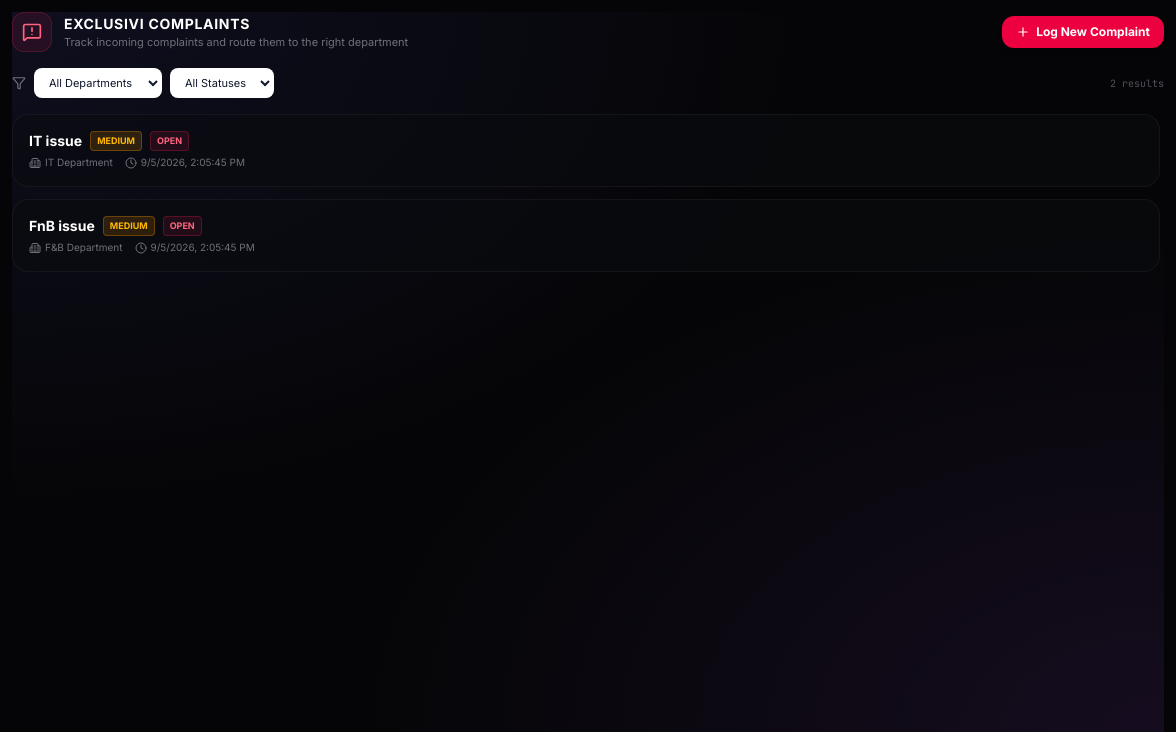
Scenario: Complaints — visibility › filters by department and reflects the result count
This screenshot has width=1176, height=732.
Check: the text "2 results" is shown, box [1110,76,1164,90]
Select "IT Department" in the 1st dropdown: (98, 83) [34,68,162,98]
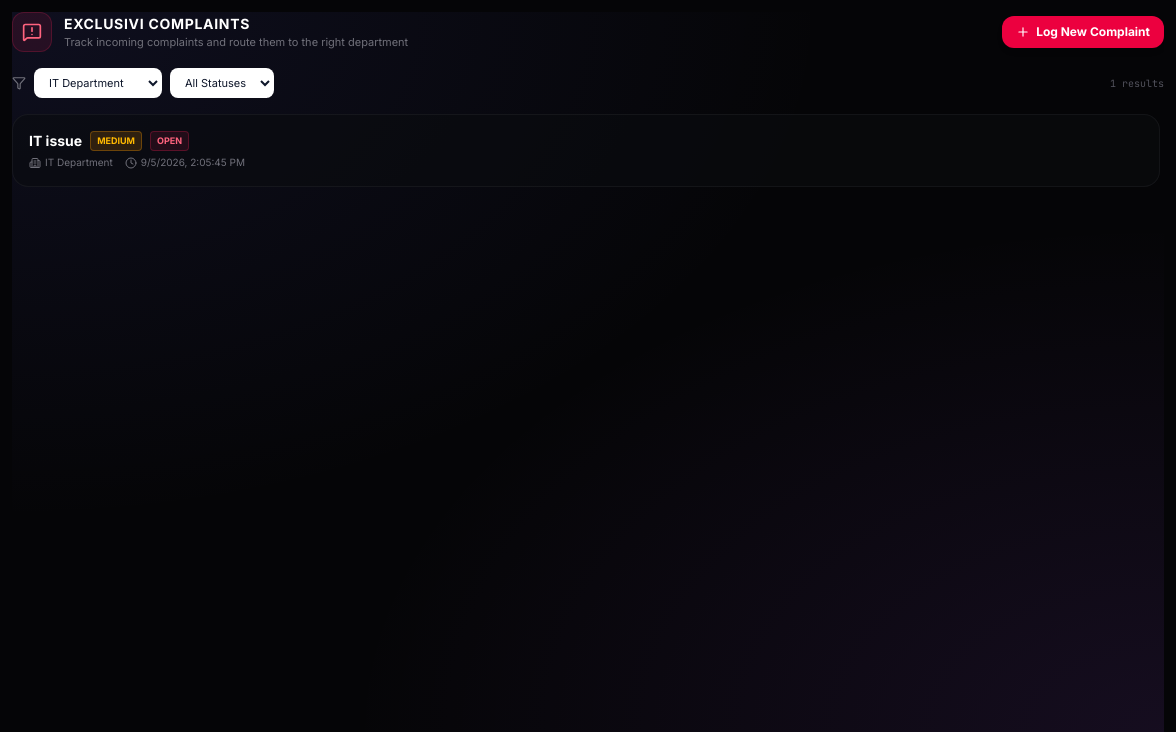
Check: the text "1 results" is shown, box [1110,76,1164,90]
Check: the button "FnB issue" is gone
